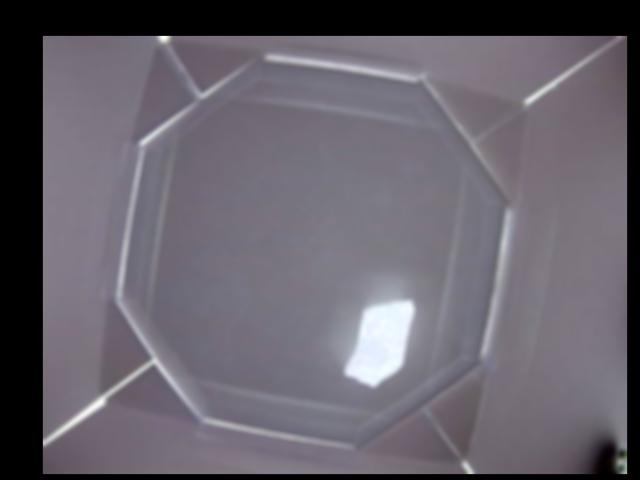China: (342, 299, 418, 385)
